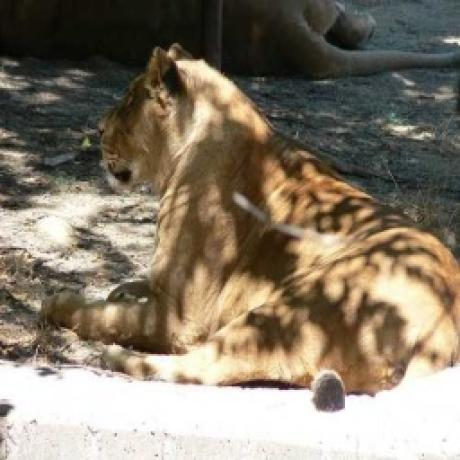Lion: (40, 39, 460, 386)
